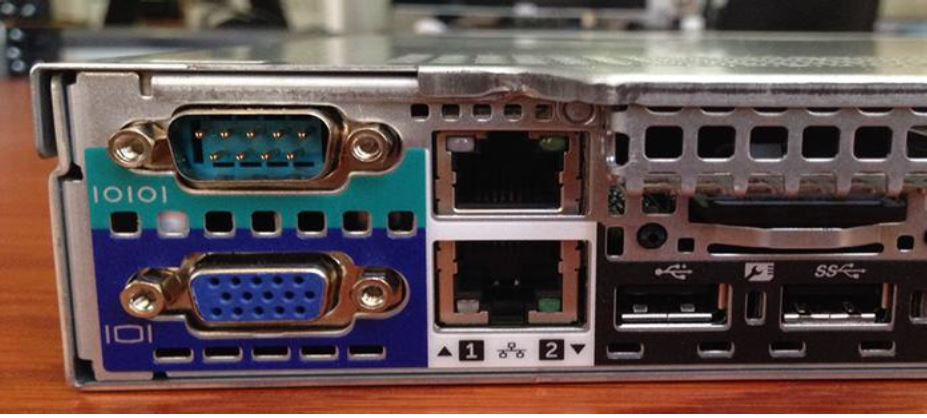Ethernet: (430, 237, 594, 336), (433, 135, 590, 218)
USB: (611, 276, 735, 332), (777, 281, 903, 332)
VGA: (173, 245, 351, 339)
